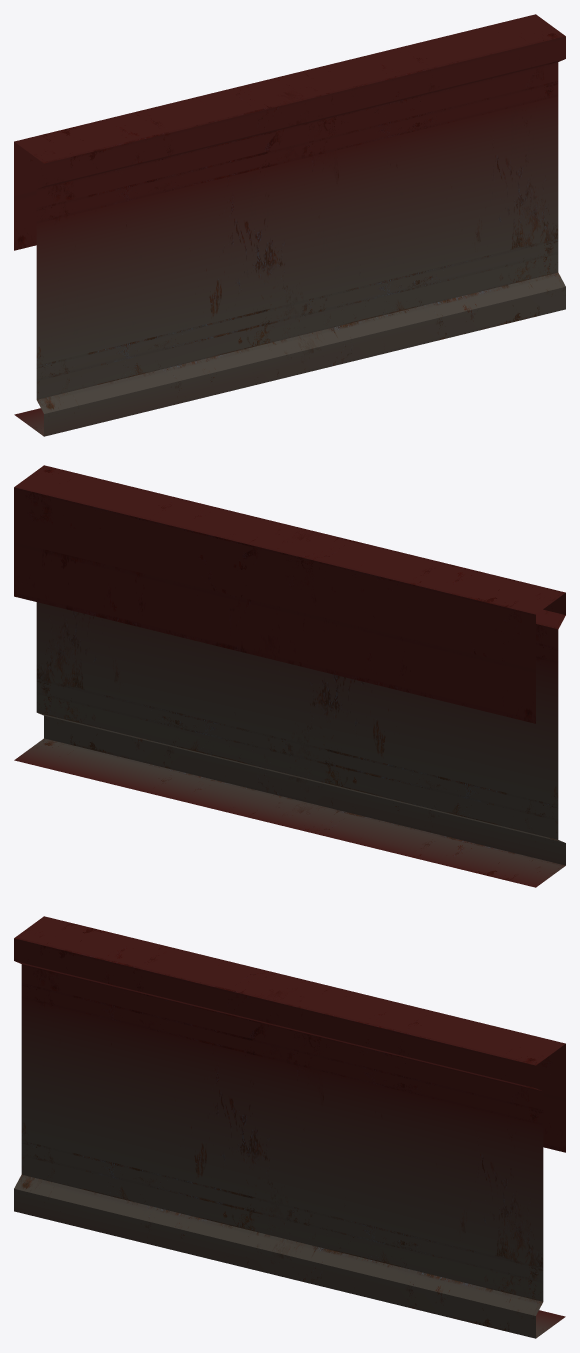
The model's file is Cornice_Metal_Center.gltf.
3 views of the same model, one above another, from view 1: azimuth 30°, elevation 25°; view 2: azimuth 150°, elevation 25°; view 3: azimuth 330°, elevation 25° (orthographic).
Visible parts, largest first — view 1: Cornice_Metal_Center; view 2: Cornice_Metal_Center; view 3: Cornice_Metal_Center.
Part boxes in pixels (x1,y1,x2,y2): Cornice_Metal_Center: (14, 14, 565, 436); Cornice_Metal_Center: (14, 465, 565, 887); Cornice_Metal_Center: (14, 916, 565, 1338).
Bounding box in the file's own units: 2 × 1 × 0.2.
Materials: 1 (1 with a texture image).
